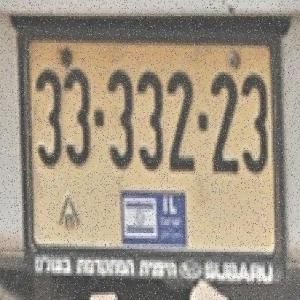Plate: (10, 9, 291, 298)
